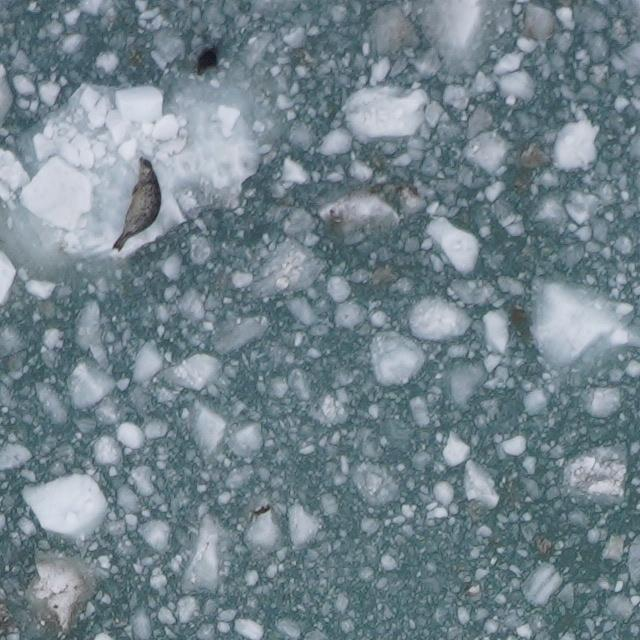seal: (109, 154, 165, 254)
